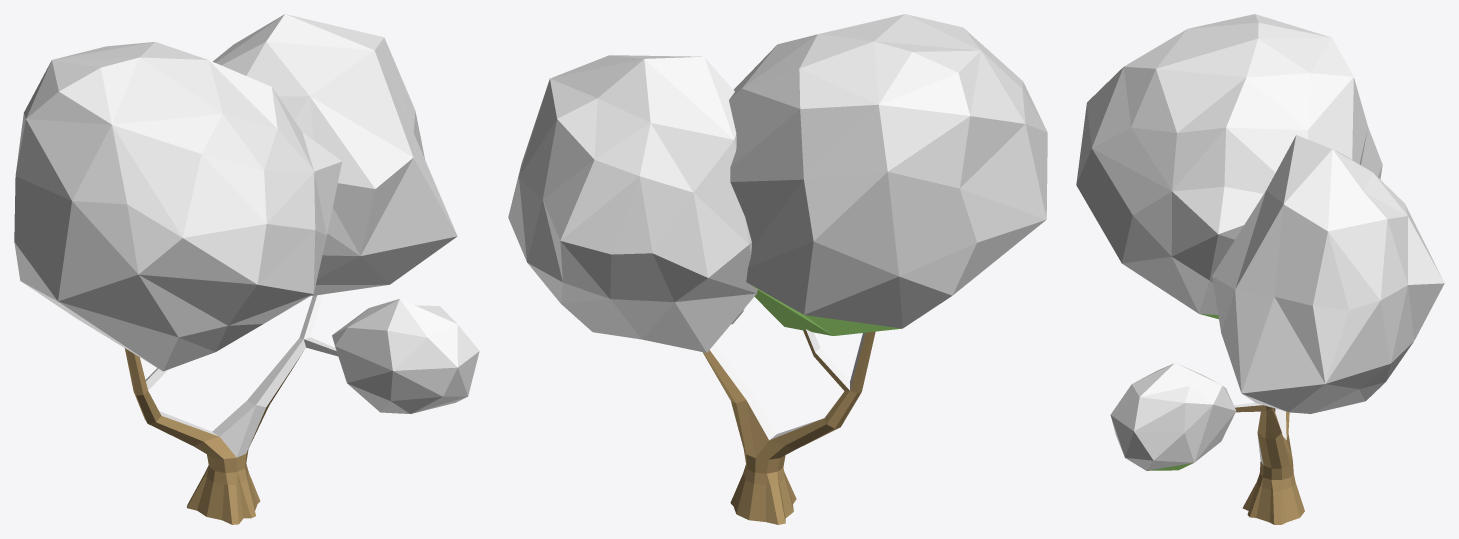
The model's file is Oak_Tree_l_Snow_02_LOD.fbx.
3 views of the same model, side by side, from view 1: azimuth 30°, elevation 25°; view 2: azimuth 150°, elevation 25°; view 3: azimuth 270°, elevation 25° (orthographic). The views are drawn at different scales.
Parts seen in each view (by area): view 1: Oak_Tree_l_Snow_02_LOD0; view 2: Oak_Tree_l_Snow_02_LOD0; view 3: Oak_Tree_l_Snow_02_LOD0.
Boxes of the visible parts, x1,y1,x2,y2 form: Oak_Tree_l_Snow_02_LOD0: (14,14,479,524); Oak_Tree_l_Snow_02_LOD0: (508,14,1047,524); Oak_Tree_l_Snow_02_LOD0: (1076,14,1444,524).
Size of what is drawn, in the model's own units: 1138 by 1157 by 898.
